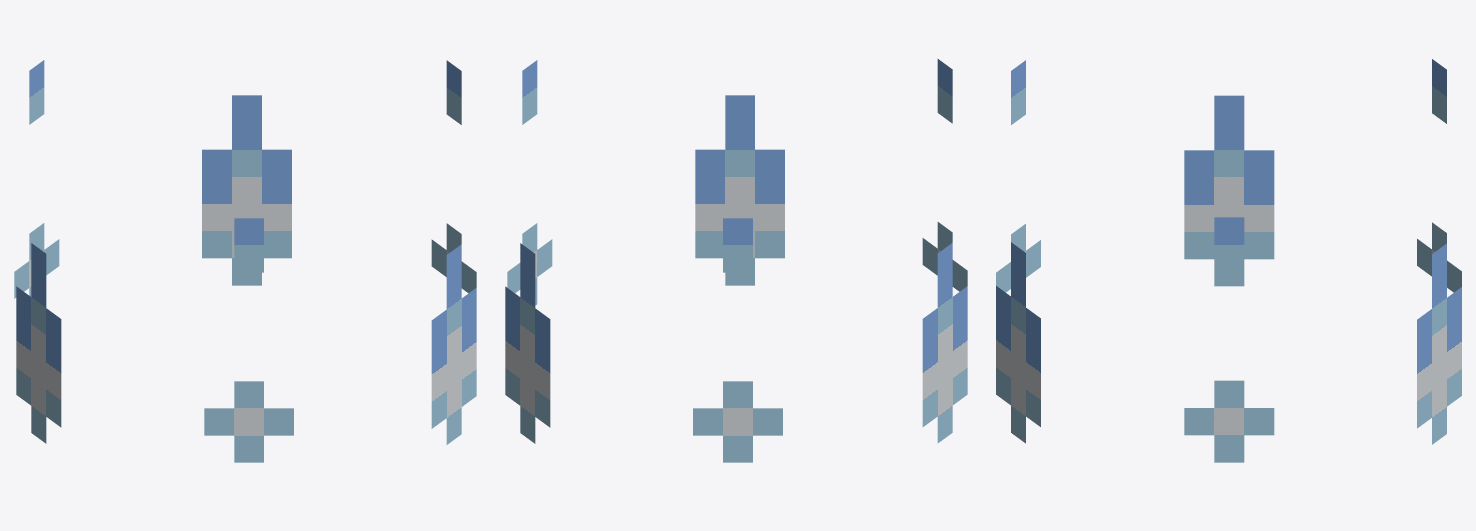
File: sl_flame_halo.glb
3 renders of one model, left to right at view 1: azimuth 30°, elevation 25°; view 2: azimuth 150°, elevation 25°; view 3: azimuth 270°, elevation 25°, orthographic.
Visible parts, largest first — view 1: bb_flame_halo; view 2: bb_flame_halo; view 3: bb_flame_halo.
Boxes of the visible parts, x1,y1,x2,y2 form: bb_flame_halo: (14, 60, 476, 462); bb_flame_halo: (505, 59, 967, 462); bb_flame_halo: (996, 59, 1461, 462).
Size of the model in its own units: 1 by 0.6875 by 0.9688.
1 material, 1 textured.
